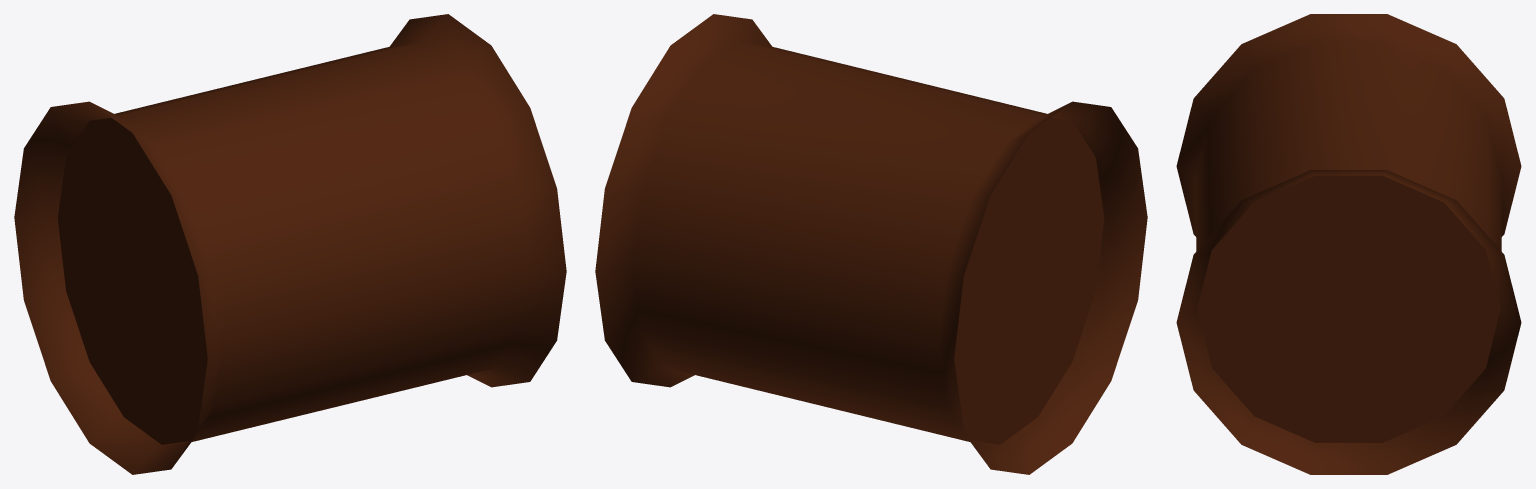
The model's file is Fieno.fbx.
The picture shows the model from 3 angles, left to right: view 1: azimuth 30°, elevation 25°; view 2: azimuth 150°, elevation 25°; view 3: azimuth 270°, elevation 25°; orthographic projection. The views are drawn at different scales.
Visible parts, largest first — view 1: Fieno1; view 2: Fieno1; view 3: Fieno1.
Part boxes in pixels (x1,y1,x2,y2): Fieno1: (14, 14, 566, 474); Fieno1: (595, 14, 1147, 474); Fieno1: (1176, 14, 1521, 474).
Bounding box in the file's own units: 126 × 114 × 117.
